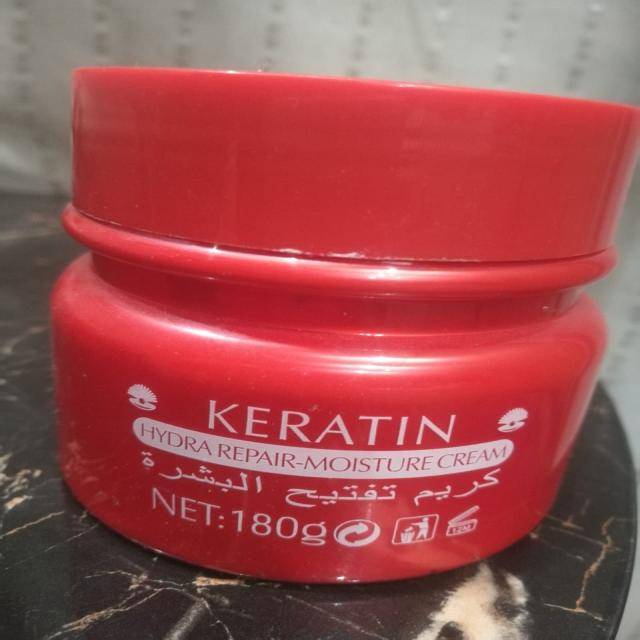lotion: (25, 42, 640, 640)
